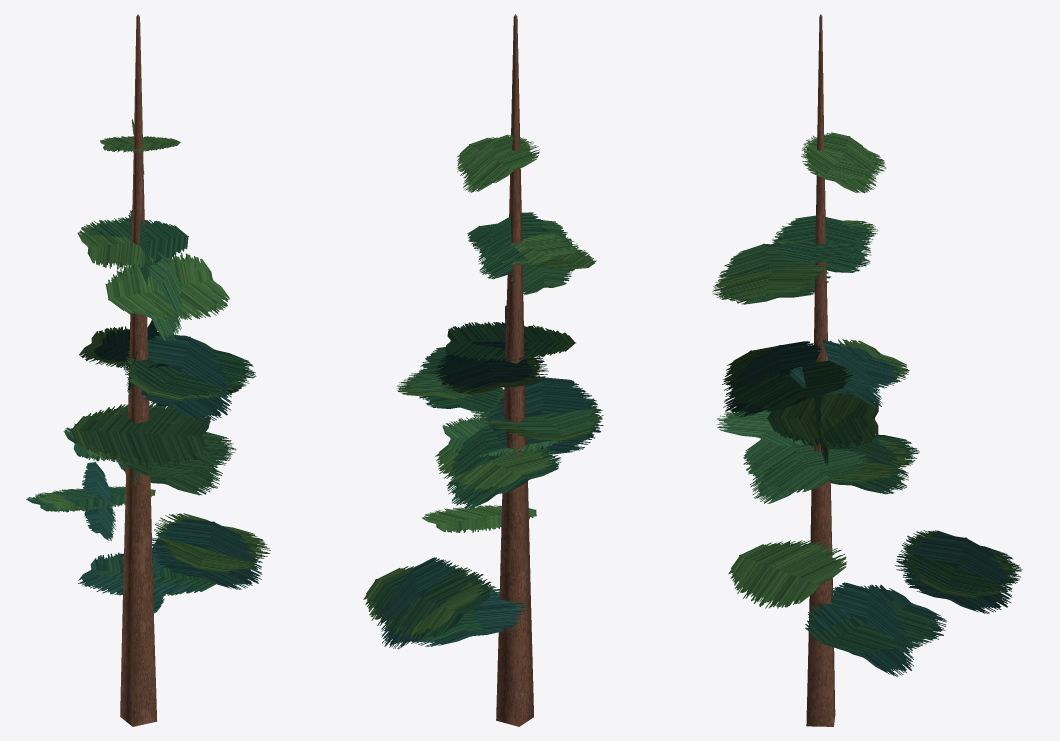
Rendered from hero_spruce_b_lod2.obj.
3 views of the same model, side by side, from view 1: azimuth 30°, elevation 25°; view 2: azimuth 150°, elevation 25°; view 3: azimuth 270°, elevation 25° (orthographic).
Visible parts, largest first — view 1: hero_spruce_b_lod2; view 2: hero_spruce_b_lod2; view 3: hero_spruce_b_lod2.
Part boxes in pixels (bbox=[...]): hero_spruce_b_lod2: bbox=[26, 14, 270, 726]; hero_spruce_b_lod2: bbox=[363, 14, 603, 726]; hero_spruce_b_lod2: bbox=[712, 14, 1022, 726].
Bounding box in the file's own units: 4.74 × 13.2 × 6.24.
2 materials, 2 textured.
